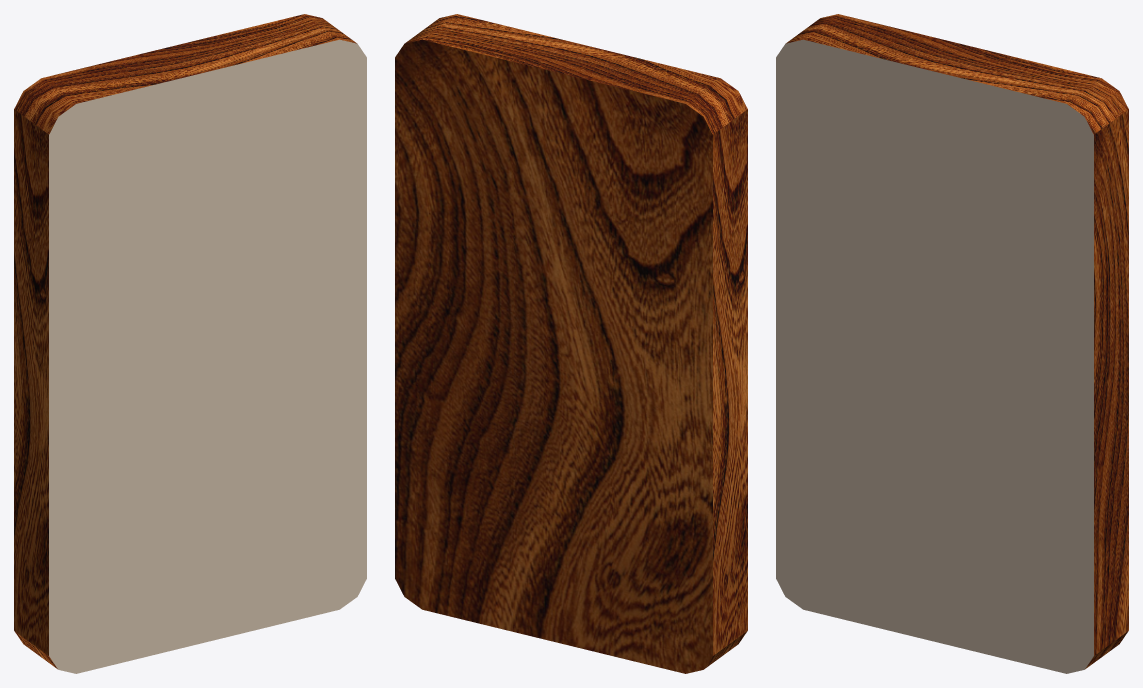
Rendered from Domino - Copy (10).fbx.
The picture shows the model from 3 angles, left to right: view 1: azimuth 30°, elevation 25°; view 2: azimuth 150°, elevation 25°; view 3: azimuth 330°, elevation 25°; orthographic projection.
Visible parts, largest first — view 1: pPlane21; view 2: pPlane21; view 3: pPlane21.
Boxes of the visible parts, x1=… form: pPlane21: x1=14, y1=14, x2=366, y2=673; pPlane21: x1=395, y1=14, x2=747, y2=673; pPlane21: x1=776, y1=14, x2=1128, y2=673.
Size of the model in its own units: 0.9196 by 1.58 by 0.1756.
Materials: 1 (1 with a texture image).
